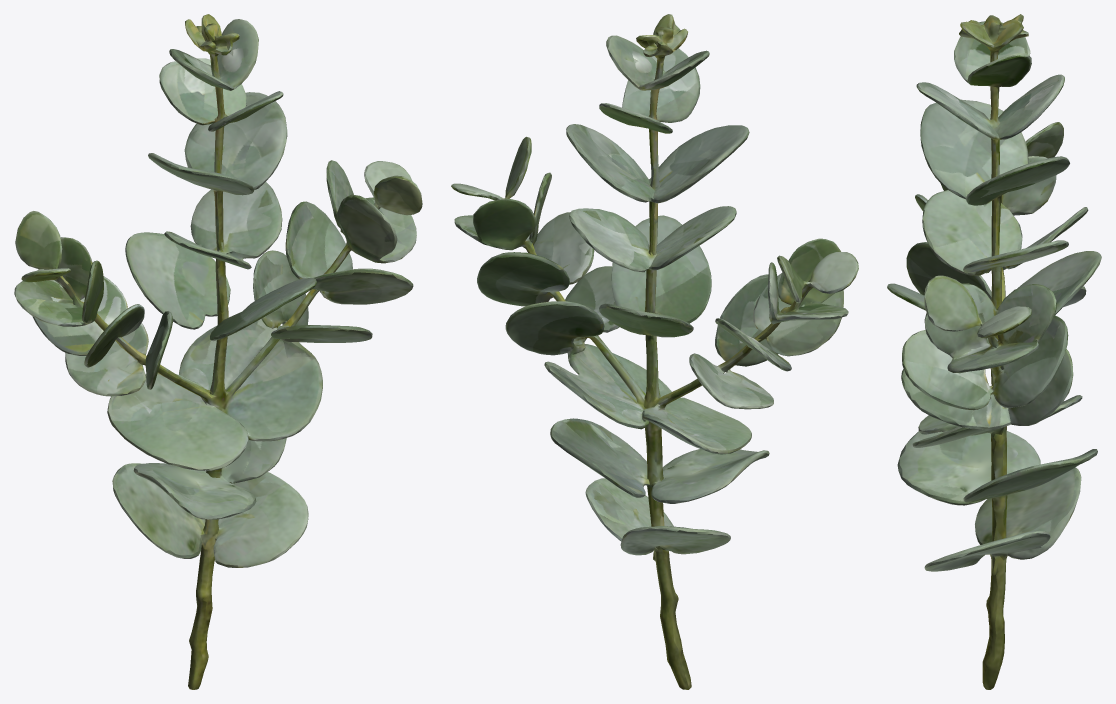
The model's file is eucalyptus-green.glb.
The picture shows the model from 3 angles, left to right: view 1: azimuth 30°, elevation 25°; view 2: azimuth 150°, elevation 25°; view 3: azimuth 270°, elevation 25°; orthographic projection. The views are drawn at different scales.
Visible parts, largest first — view 1: geometry_0; view 2: geometry_0; view 3: geometry_0.
Part boxes in pixels (box(x1,y1,x2,y2)): geometry_0: box(14, 14, 422, 689); geometry_0: box(451, 14, 858, 689); geometry_0: box(887, 14, 1101, 689).
Bounding box in the file's own units: 0.3754 × 0.6 × 0.1714.
1 material, 1 textured.
